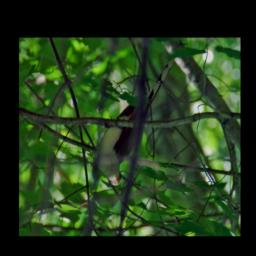Cuckoo: (94, 56, 181, 187)
